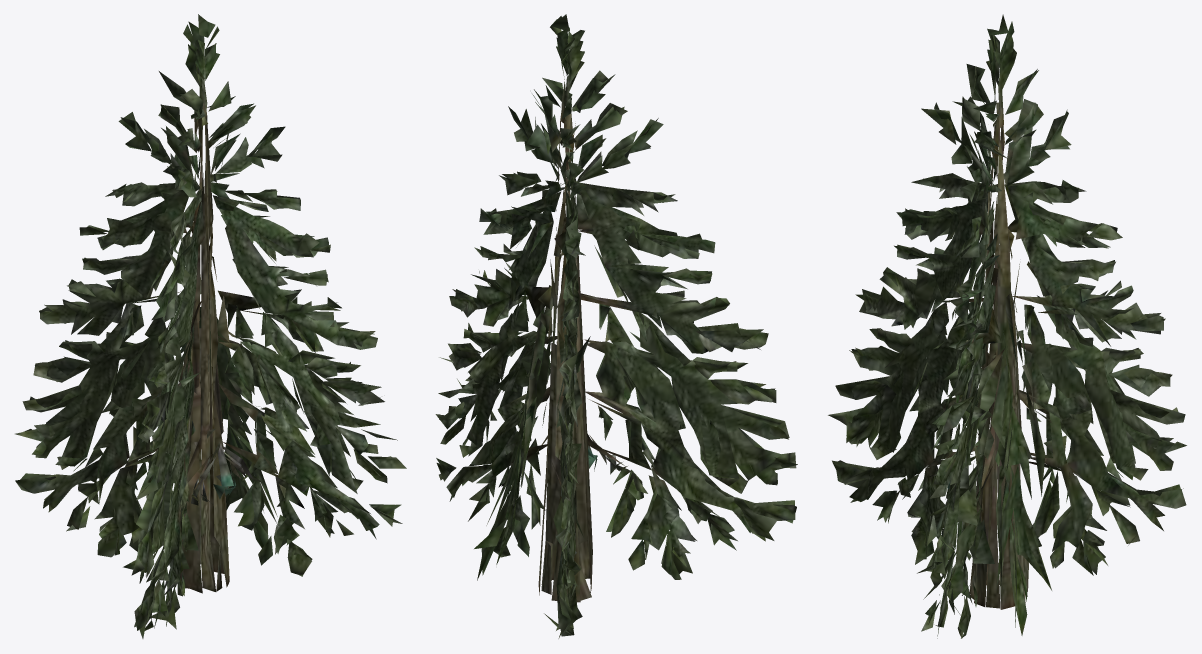
The model's file is tr_pine_b_far.glb.
3 renders of one model, left to right at view 1: azimuth 30°, elevation 25°; view 2: azimuth 150°, elevation 25°; view 3: azimuth 270°, elevation 25°, orthographic. The views are drawn at different scales.
Parts seen in each view (by area): view 1: tr_pine_b; view 2: tr_pine_b; view 3: tr_pine_b.
Part boxes in pixels (x1,y1,x2,y2): tr_pine_b: (15, 14, 406, 638); tr_pine_b: (435, 14, 797, 638); tr_pine_b: (828, 14, 1186, 638).
Size of the model in its own units: 7.48 by 12.83 by 7.15.
Materials: 1 (1 with a texture image).
